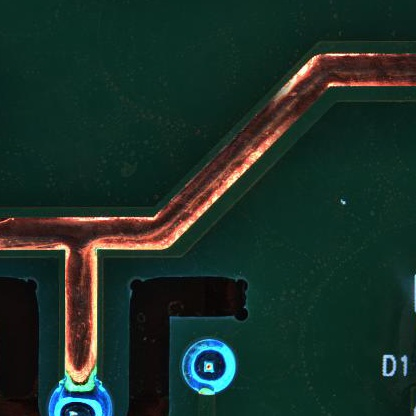spot: (180, 338, 237, 398)
